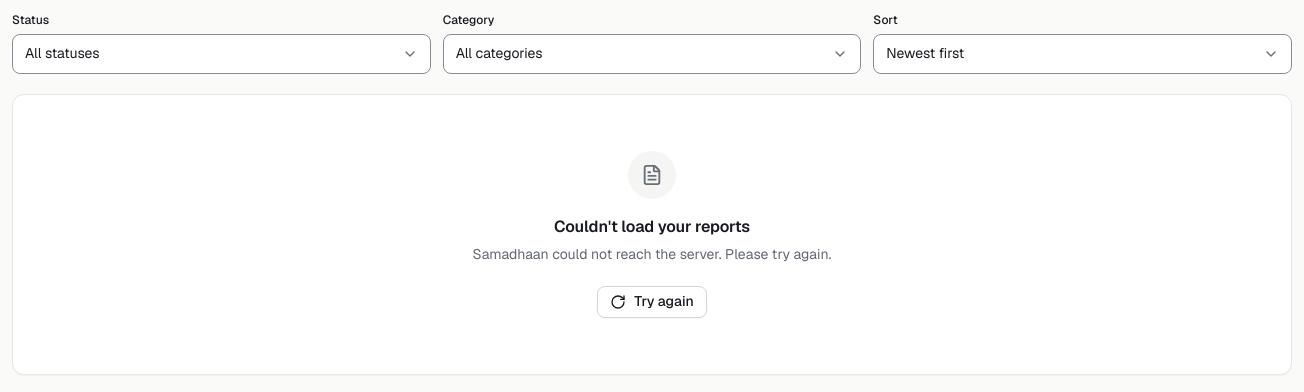
Test case: MyProblemsList › shows a retryable error when the server could not be reached
This screenshot has width=1304, height=392.
Expected: the text "Samadhaan could not reach the server. Please try again." is shown, top-left (473, 244), bottom-right (831, 266)
What coordinates should you click on to do the following:
click the button "Try again"
I would click on:
 (652, 302)
Its box is top-left (597, 286), bottom-right (707, 318).
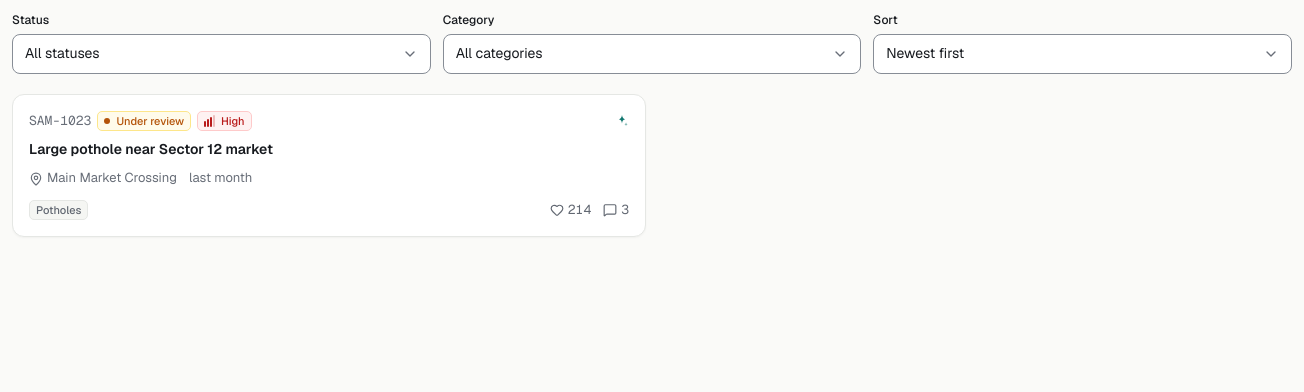
Expected: the text "SAM-1023" is shown, top-left (29, 112), bottom-right (91, 131)
